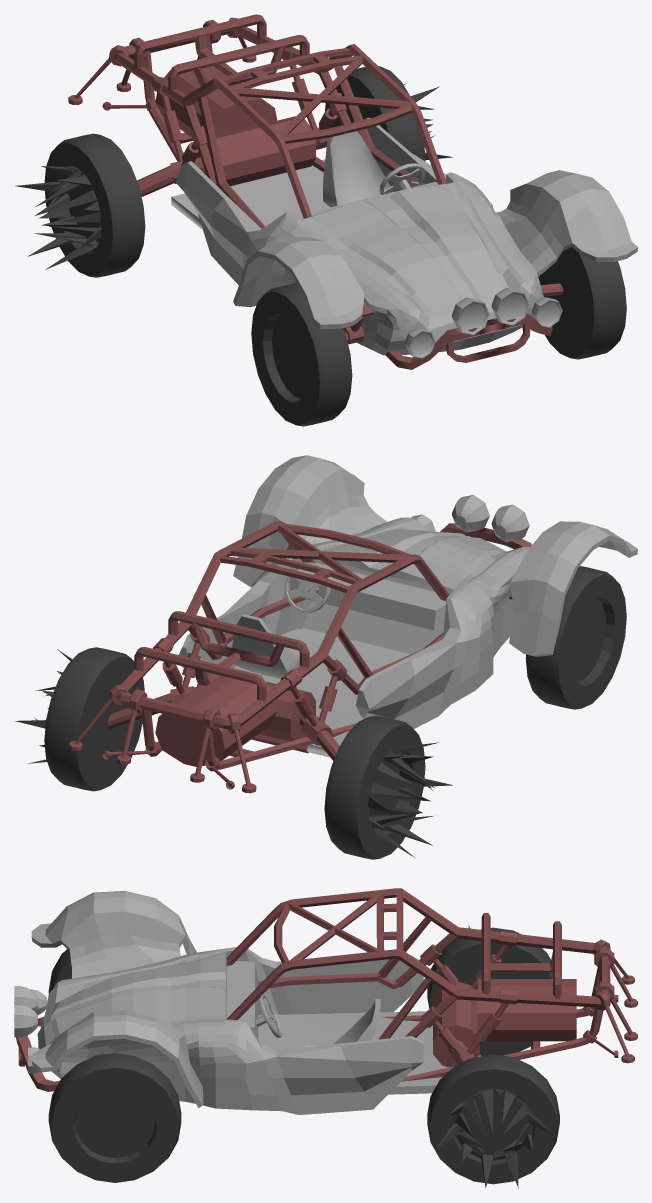
The model's file is Buggy.fbx.
3 renders of one model, top to bottom at view 1: azimuth 30°, elevation 25°; view 2: azimuth 150°, elevation 25°; view 3: azimuth 270°, elevation 25°, orthographic. The views are drawn at different scales.
Visible parts, largest first — view 1: BuggyBody, Wheel_Back_Right, Wheel_Front_Right, Wheel_Front_Left, Wheel_Back_Left; view 2: BuggyBody, Wheel_Back_Right, Wheel_Back_Left, Wheel_Front_Right; view 3: BuggyBody, Wheel_Back_Left, Wheel_Front_Left, Wheel_Back_Right, Wheel_Front_Right.
Part boxes in pixels (box(x1,y1,x2,y2)): BuggyBody: box(68, 14, 637, 369); Wheel_Back_Right: box(15, 133, 145, 277); Wheel_Front_Right: box(251, 283, 352, 426); Wheel_Front_Left: box(538, 247, 626, 359); Wheel_Back_Left: box(325, 66, 453, 160); BuggyBody: box(68, 455, 637, 793); Wheel_Back_Right: box(324, 715, 452, 859); Wheel_Back_Left: box(15, 647, 144, 791); Wheel_Front_Right: box(525, 566, 626, 709); BuggyBody: box(14, 888, 637, 1114); Wheel_Back_Left: box(427, 1054, 559, 1187); Wheel_Front_Left: box(48, 1053, 181, 1182); Wheel_Back_Right: box(427, 925, 552, 1055); Wheel_Front_Right: box(48, 949, 71, 993).
Size of what is drawn, in the model's own units: 1.78 by 0.8954 by 2.58.
